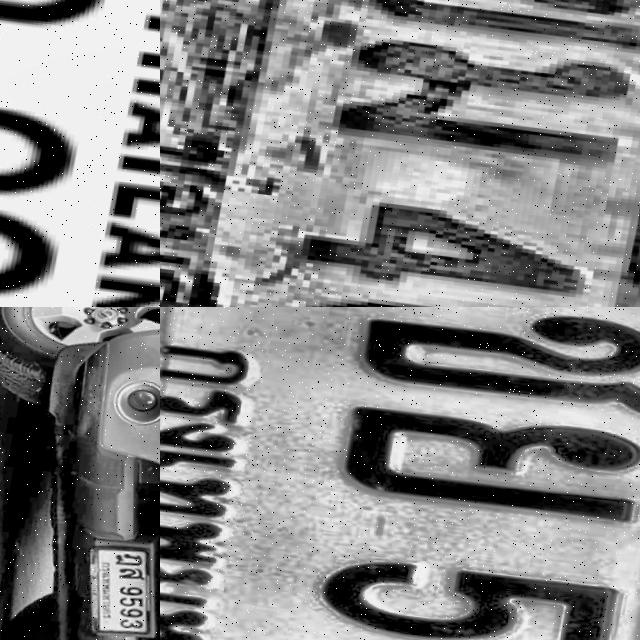license-plate: (160, 307, 640, 640), (160, 0, 640, 307), (0, 0, 160, 307), (79, 528, 160, 640)
